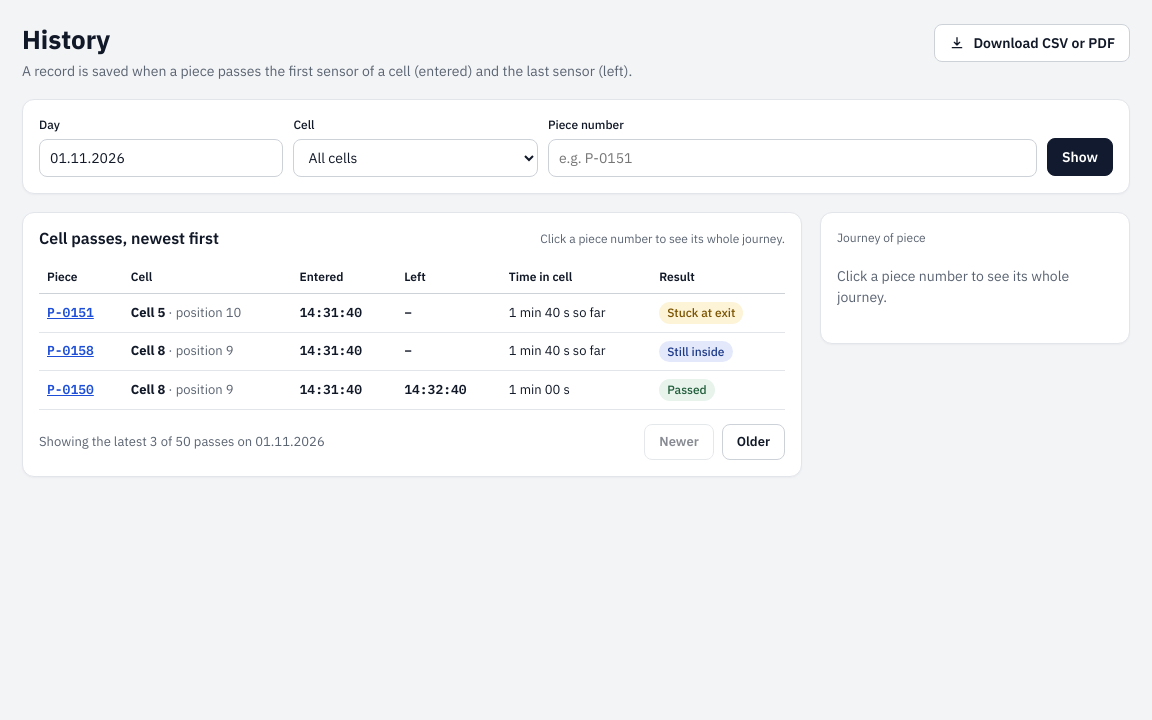
Scenario: History downloads › allows exactly 31 days when the server does not say its limit
Click the button "Download CSV or PDF": click(1032, 43) 934,24 -> 1130,62
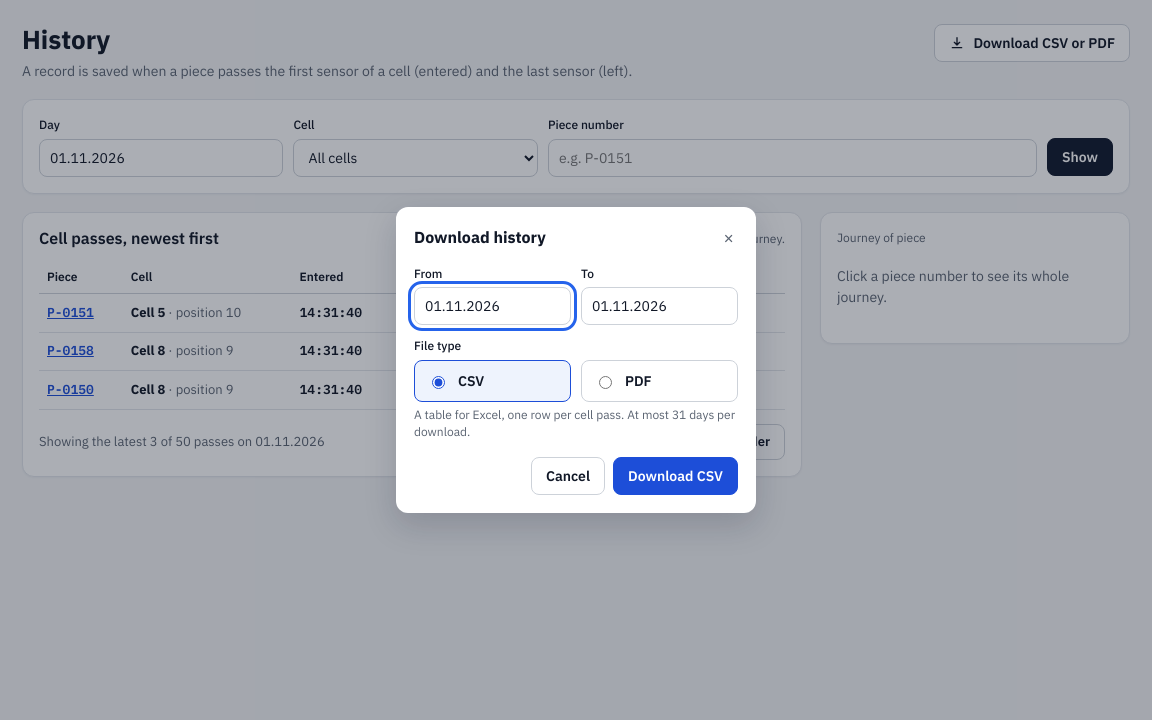
Clear the field labelled "To": (660, 306) 581,287 -> 738,325
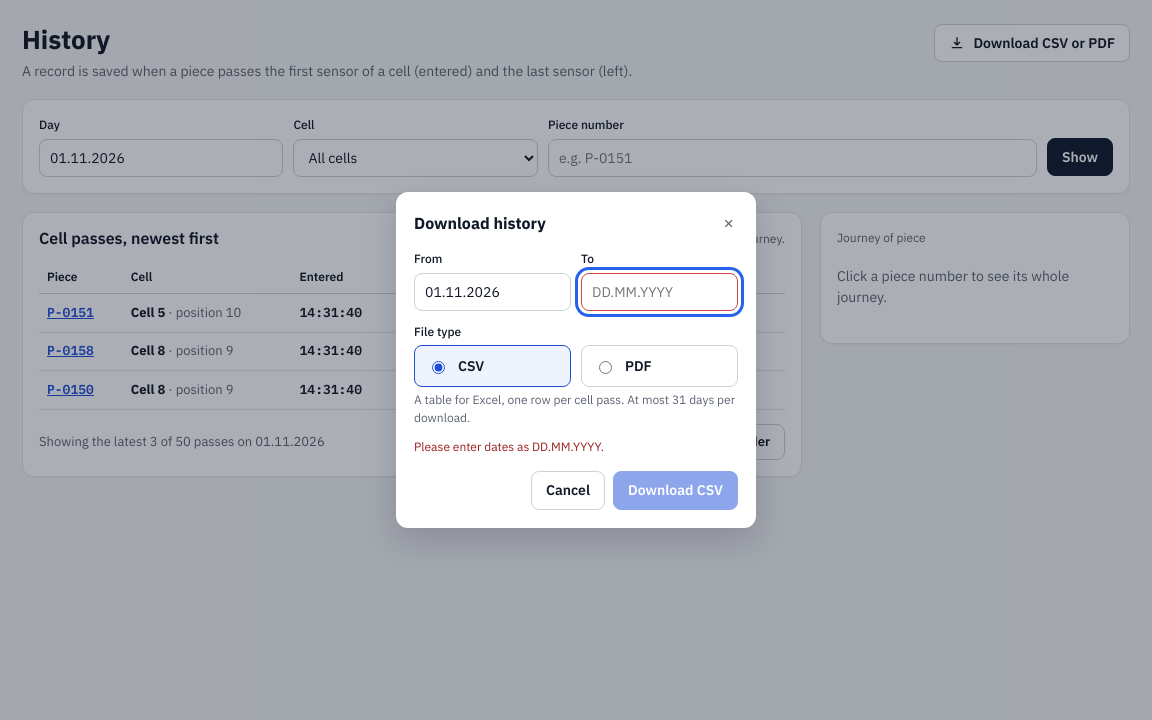
In the field labelled "To": (660, 292) 581,273 -> 738,311, type "01.12.2026"
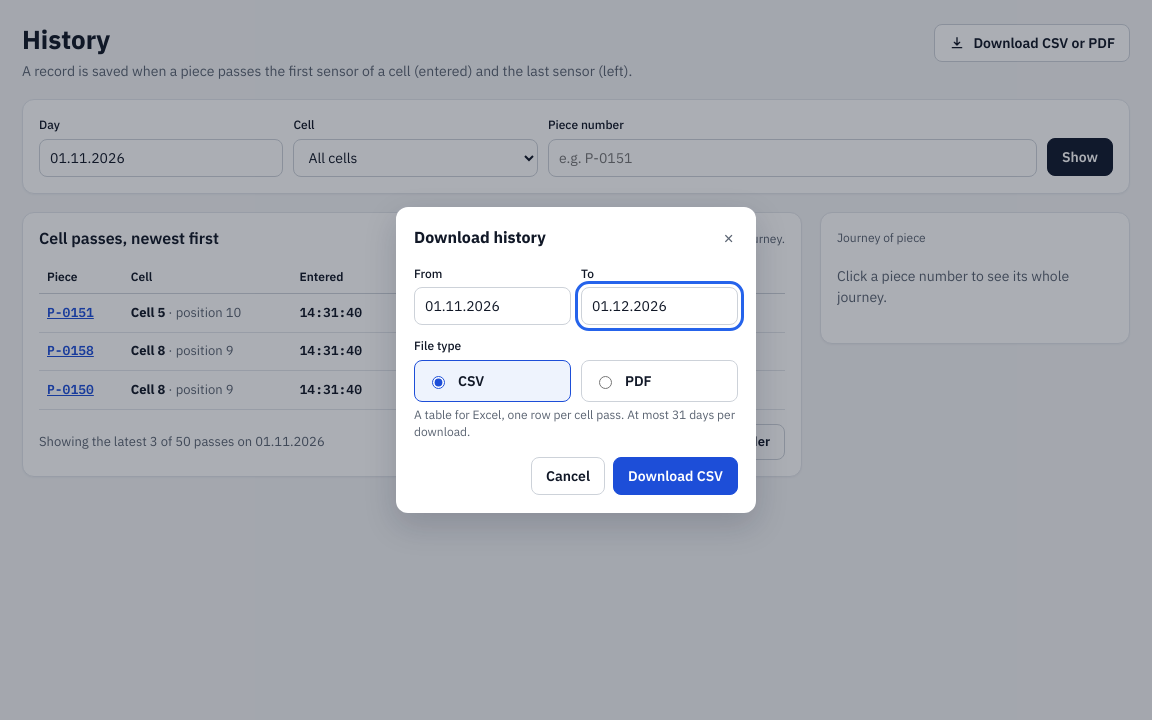
Check: the message "Please enter dates as DD.MM.YYYY." is gone
Clear the field labelled "To": (660, 306) 581,287 -> 738,325
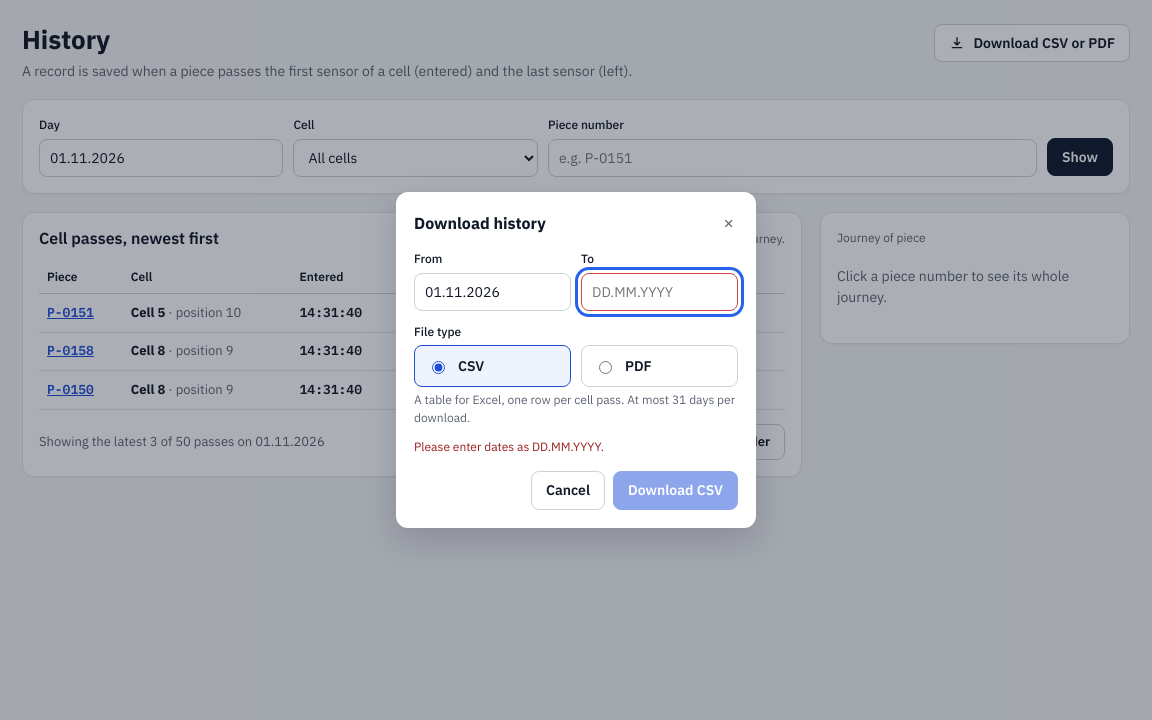
In the field labelled "To": (660, 292) 581,273 -> 738,311, type "02.12.2026"
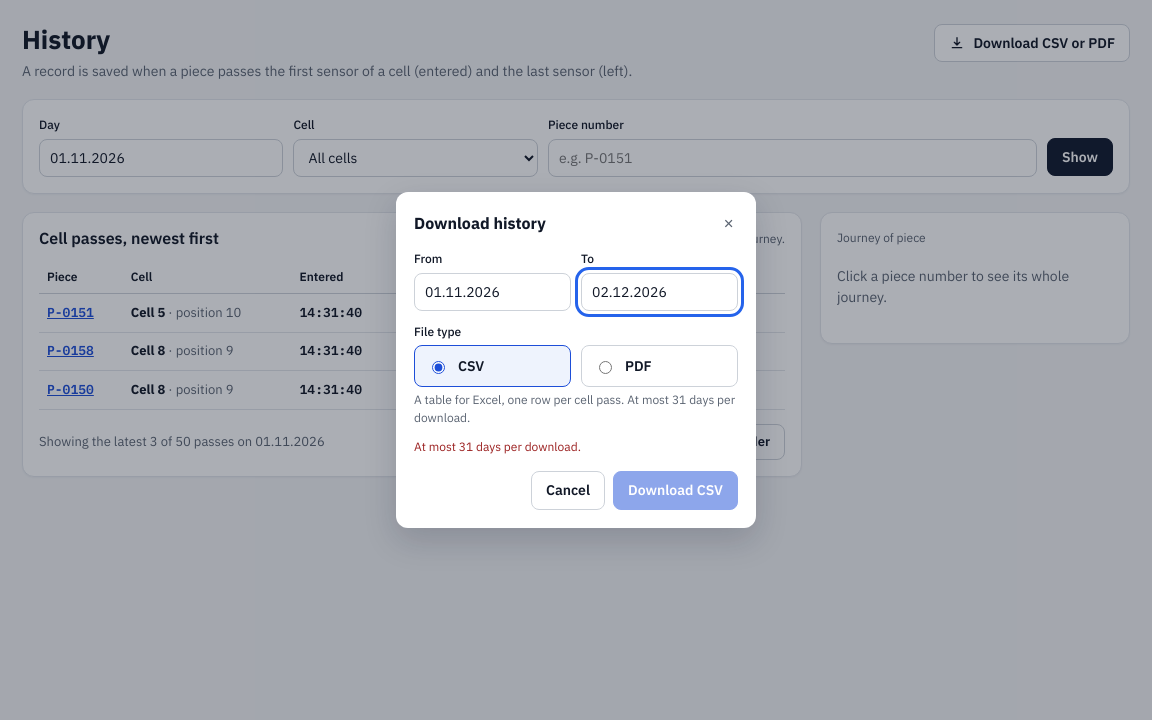
Check: the button "Download CSV" is disabled, box 613,472 -> 738,510
Check: the message reads "At most 31 days per download.", box 414,439 -> 581,454
